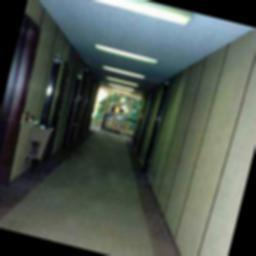Lavamanos: (18, 115, 59, 172)
Puerta: (0, 29, 37, 204)
